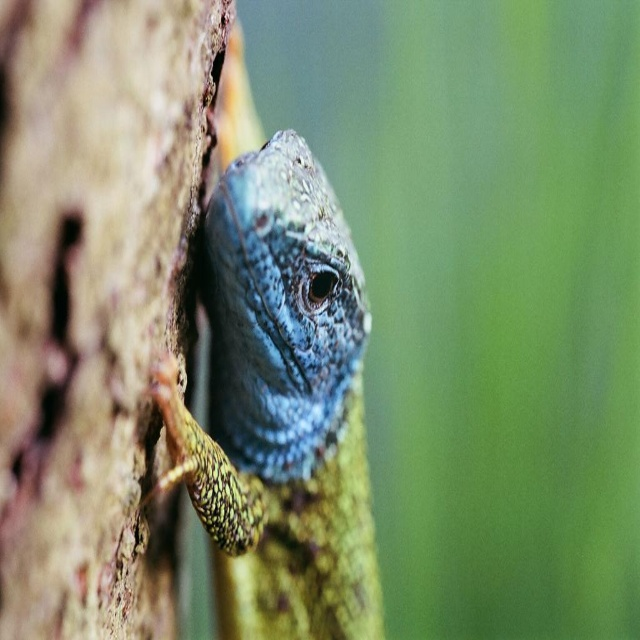Lizard: (142, 24, 386, 636)
